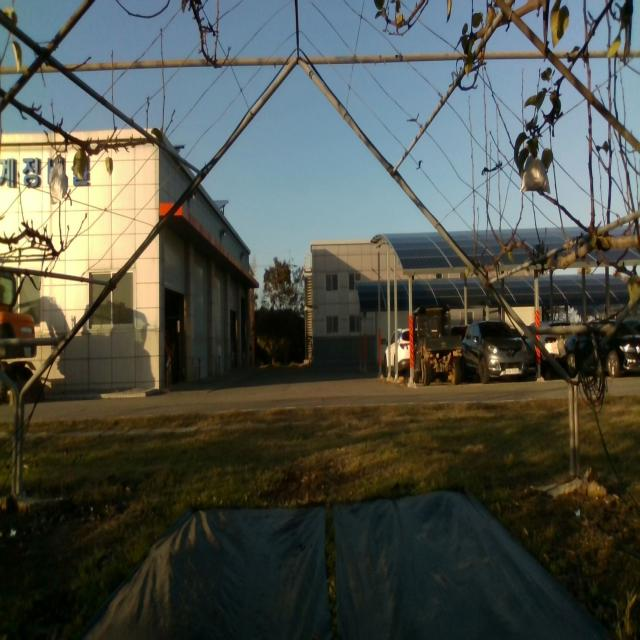pearbags: (520, 153, 551, 196), (48, 163, 68, 206)
